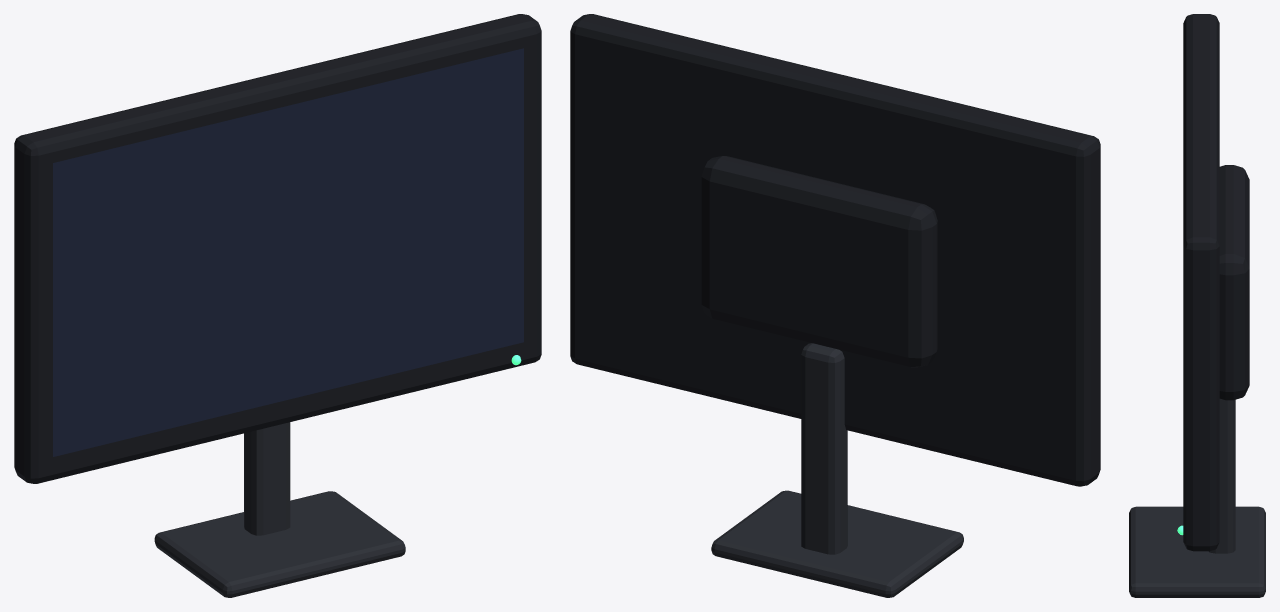
Rendered from monitor.glb.
The picture shows the model from 3 angles, left to right: view 1: azimuth 30°, elevation 25°; view 2: azimuth 150°, elevation 25°; view 3: azimuth 270°, elevation 25°; orthographic projection. The views are drawn at different scales.
Parts seen in each view (by area): view 1: Monitor; view 2: Monitor; view 3: Monitor.
Boxes of the visible parts, box(x1,y1,x2,y2) form: Monitor: box(14, 14, 541, 597); Monitor: box(570, 14, 1100, 597); Monitor: box(1129, 14, 1265, 597).
Bounding box in the file's own units: 0.68 × 0.595 × 0.17.
